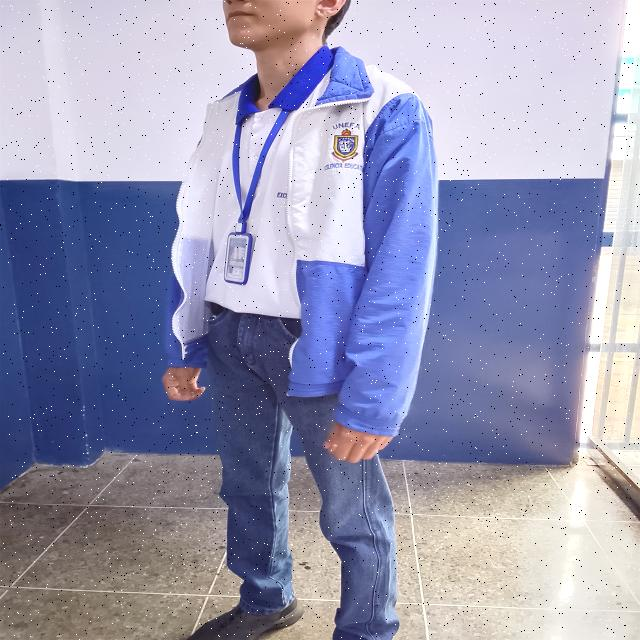carnet: (228, 236, 249, 282)
chaqueta_unefa: (161, 45, 440, 438)
